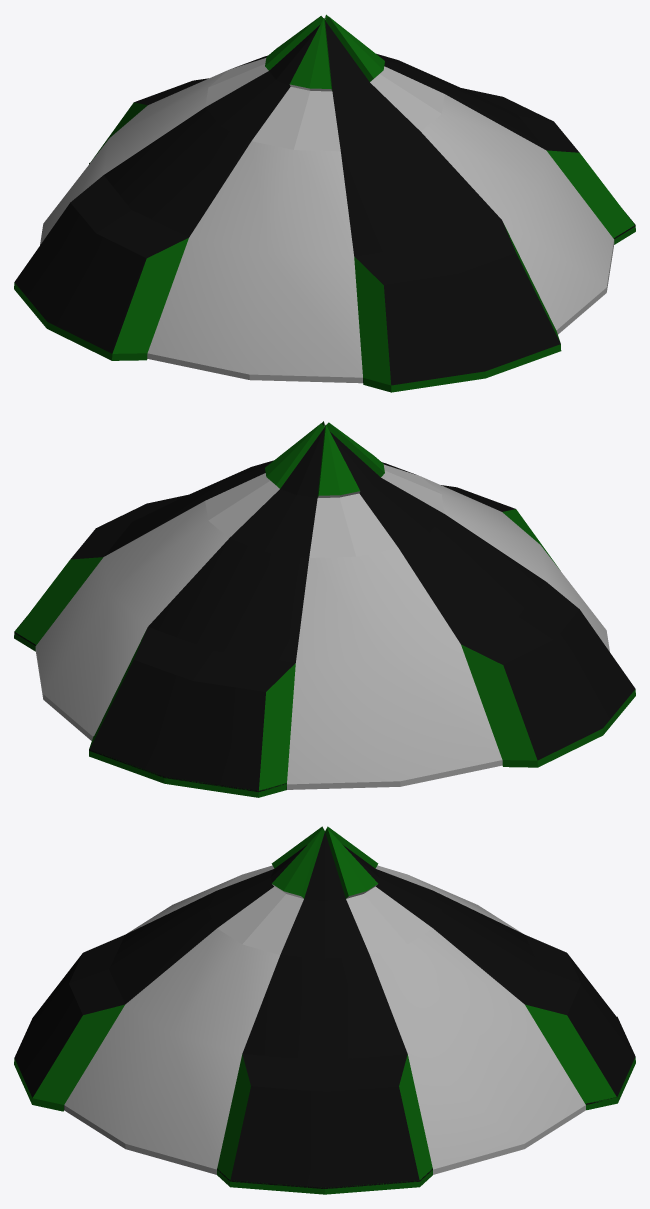
File: Mine.FBX
3 renders of one model, top to bottom at view 1: azimuth 30°, elevation 25°; view 2: azimuth 150°, elevation 25°; view 3: azimuth 270°, elevation 25°, orthographic. The views are drawn at different scales.
Visible parts, largest first — view 1: Sphere001; view 2: Sphere001; view 3: Sphere001.
Part boxes in pixels (x1=…): Sphere001: x1=14, y1=14, x2=635, y2=392; Sphere001: x1=14, y1=421, x2=635, y2=797; Sphere001: x1=14, y1=826, x2=635, y2=1194.
Bounding box in the file's own units: 53.09 × 22.47 × 53.09.
